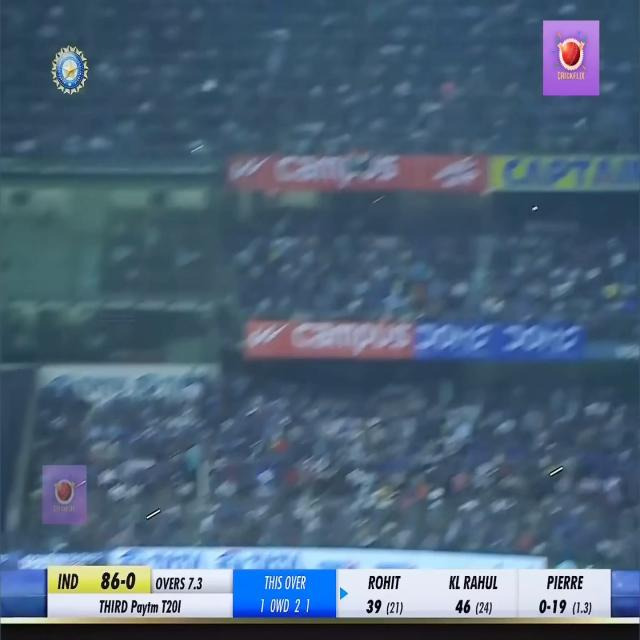fully_visible: (393, 346, 639, 398), (128, 593, 161, 620)
